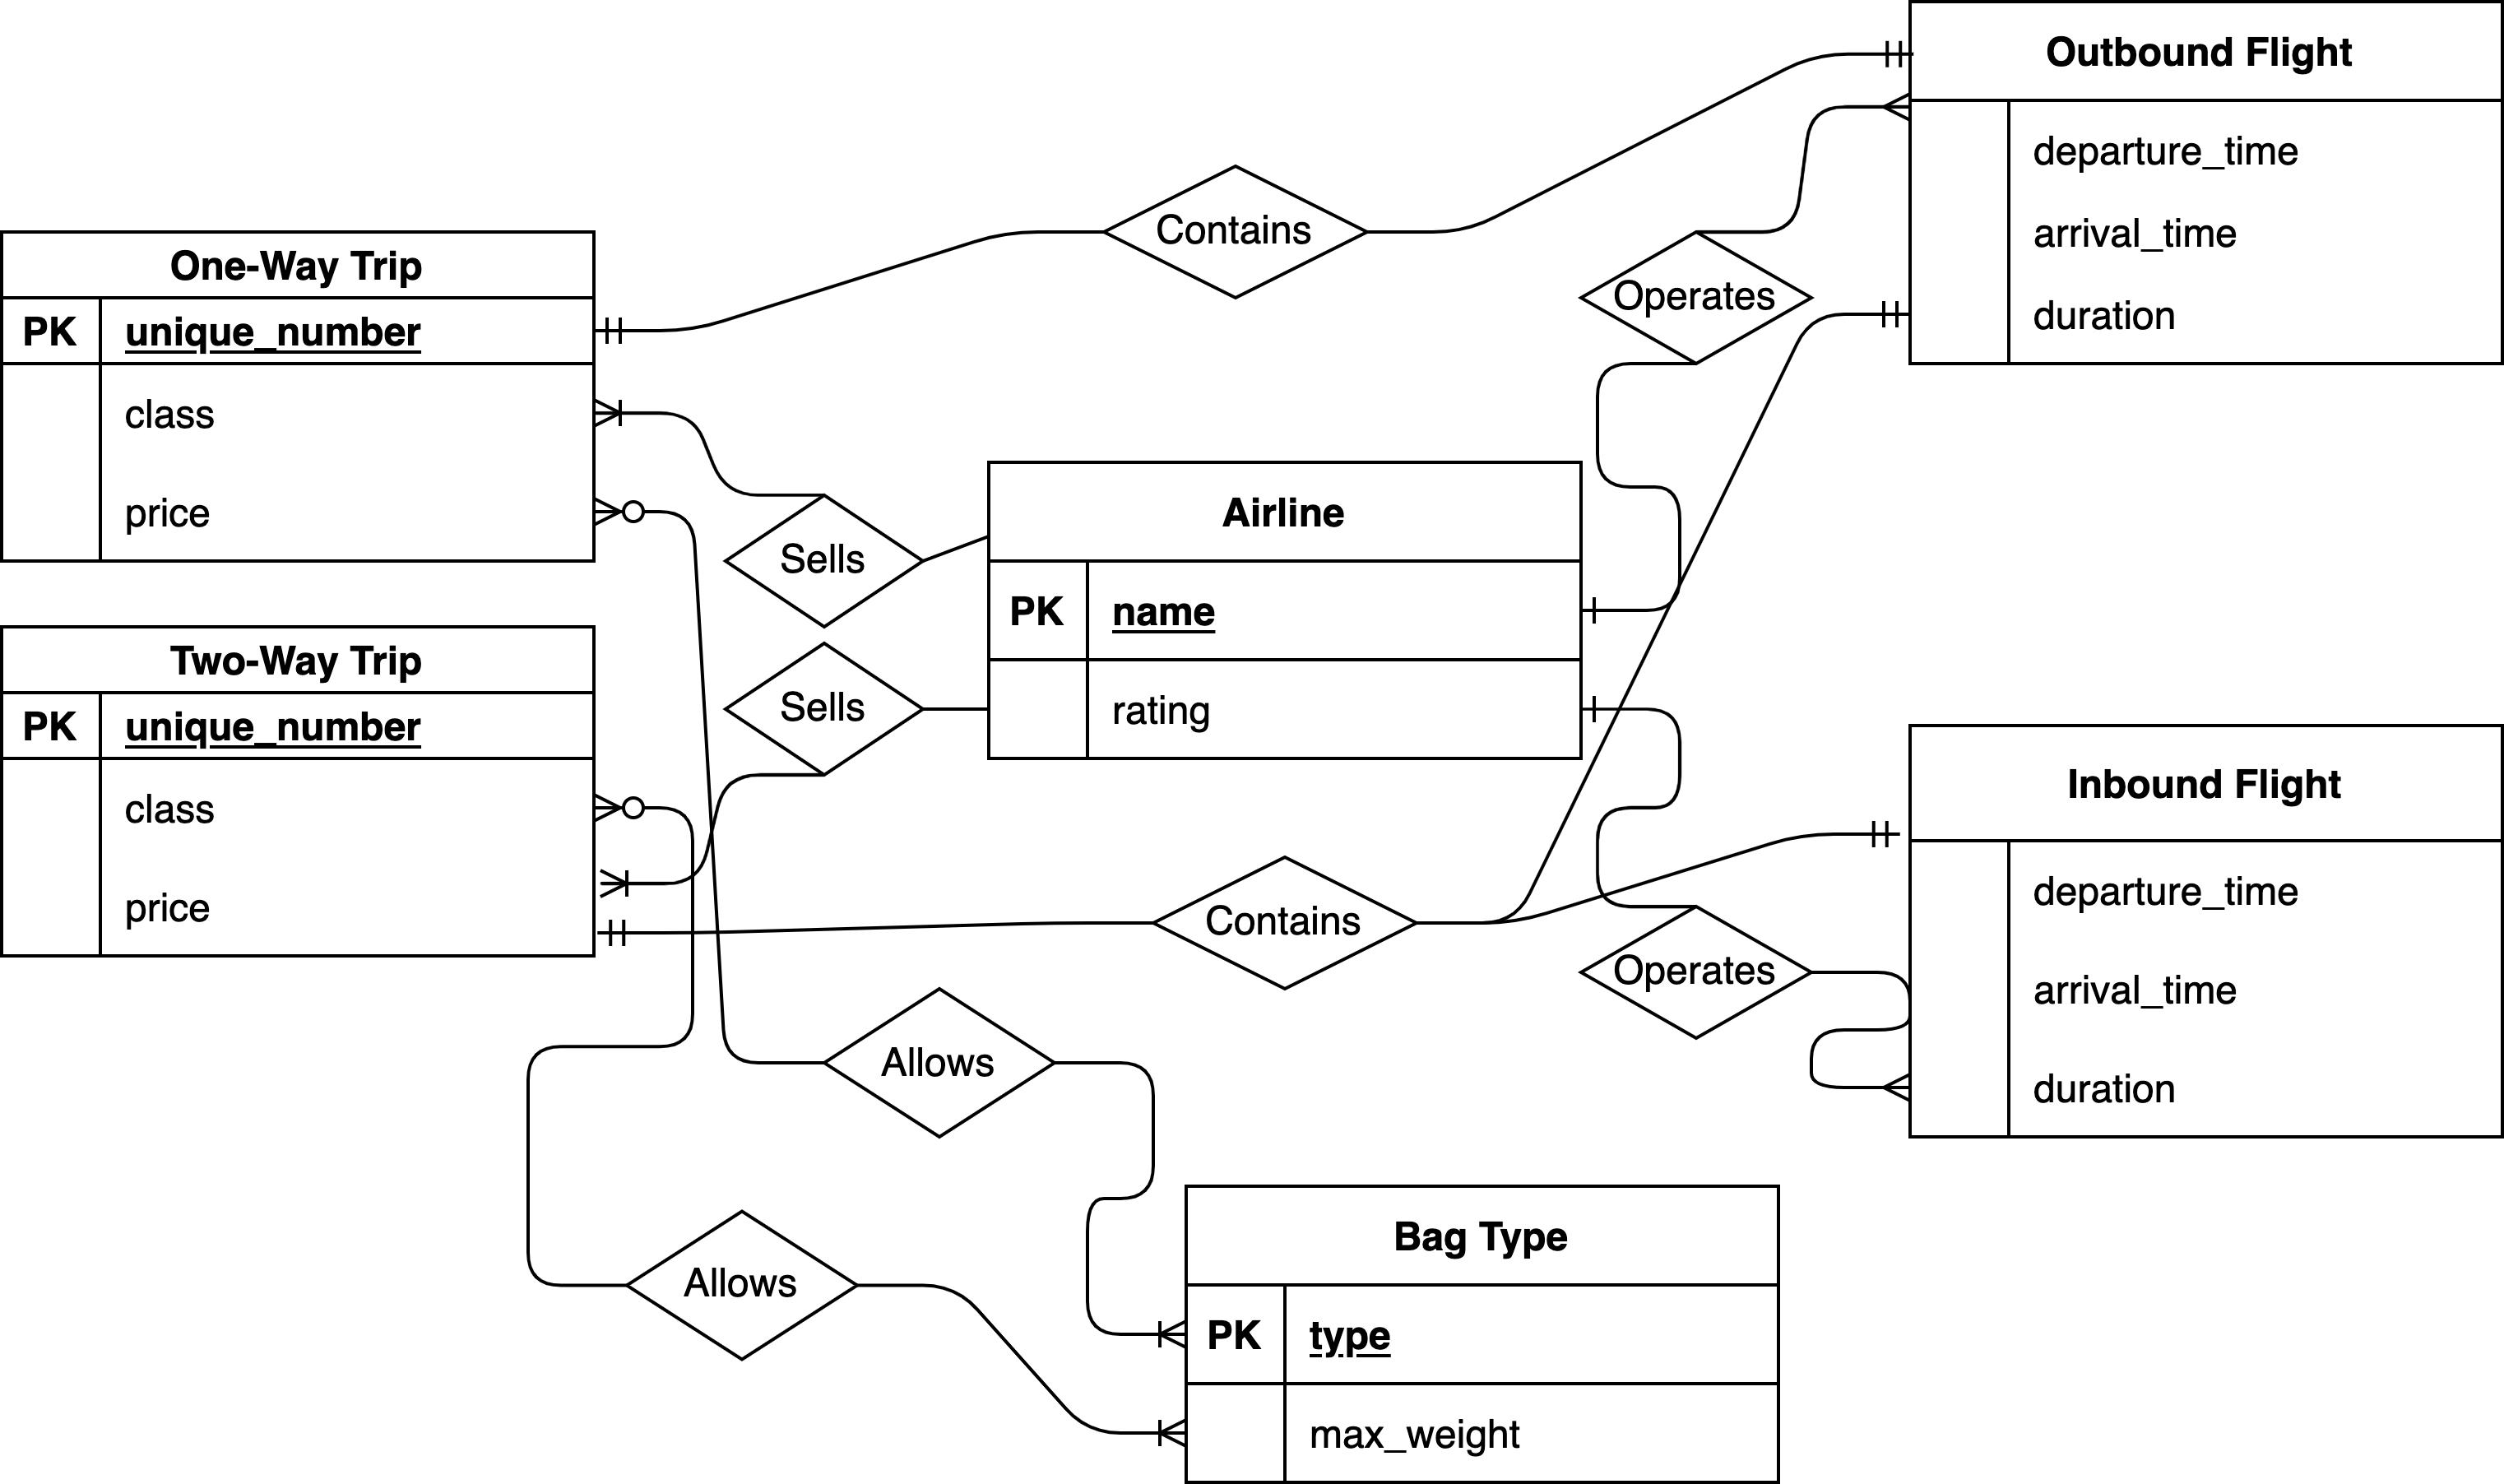entity: (1904, 717, 2504, 1141), (1905, 0, 2504, 366), (0, 622, 602, 952), (0, 228, 599, 560), (1180, 1178, 1782, 1484), (985, 459, 1586, 763)
relationship: (1160, 855, 1414, 991), (634, 1208, 858, 1362), (1107, 166, 1363, 300), (826, 986, 1052, 1138), (1584, 906, 1815, 1041), (1582, 230, 1810, 364), (724, 645, 927, 772), (733, 496, 918, 627)
